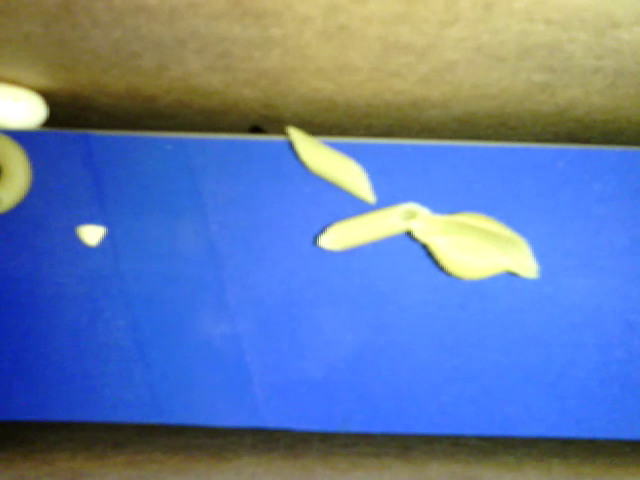elbow: (1, 132, 32, 212)
penne: (287, 125, 376, 205), (315, 203, 432, 252)
shell: (406, 210, 538, 281)
